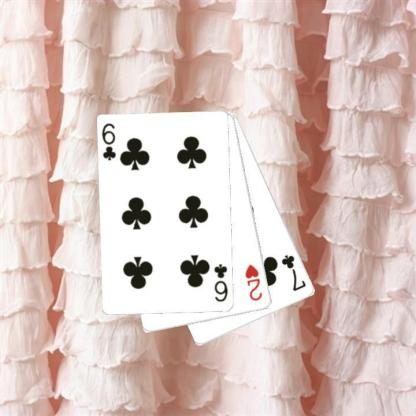2H: (243, 262, 264, 302)
6C: (211, 262, 230, 303), (100, 122, 118, 162)
7C: (279, 252, 307, 292)
